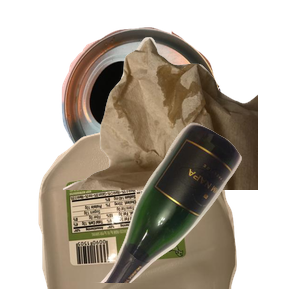glass: (87, 120, 300, 300)
metal: (59, 10, 273, 189)
plastic: (36, 120, 265, 300)
trash: (60, 35, 300, 215)
